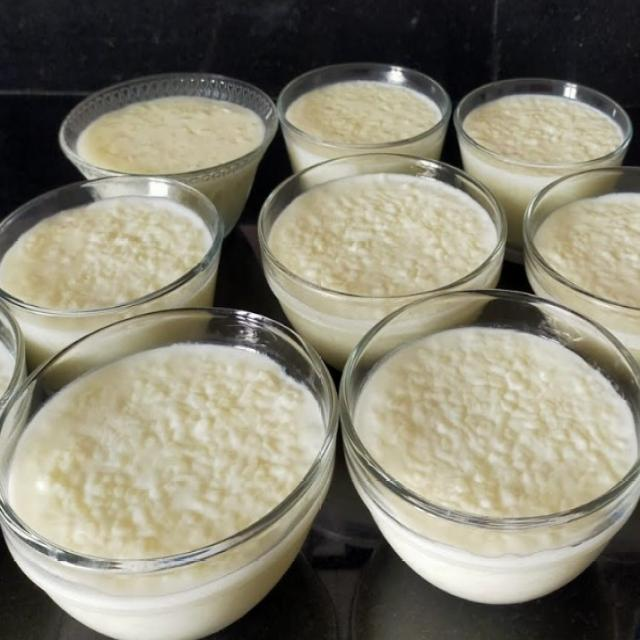roz blabn: (5, 344, 329, 572), (347, 325, 640, 529), (263, 171, 505, 299), (0, 196, 218, 311), (75, 95, 263, 177), (538, 186, 640, 314), (462, 92, 624, 172), (283, 78, 443, 152)
